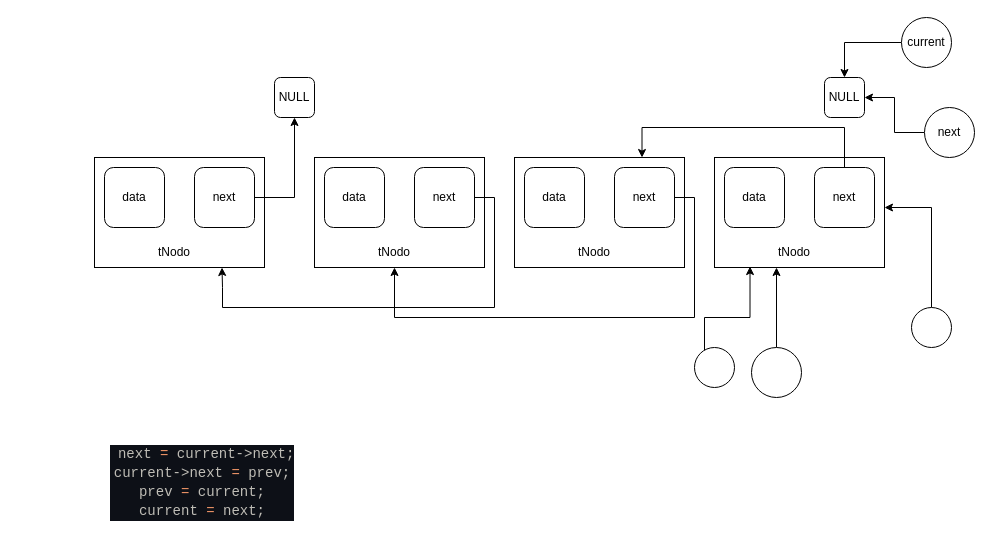
The diagram is 992 pixels wide and 538 high, and some of its shapes have lost their labels. The centre of each missing label's shape, as x and y in pixels:
head: the point at 714,367
prev: the point at 776,372
rear: the point at 931,327
